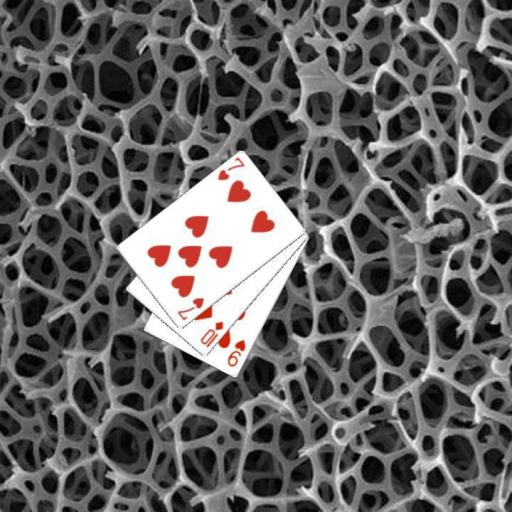card-corner: (215, 154, 246, 182), (174, 295, 206, 322), (197, 319, 225, 349), (224, 336, 247, 368)
